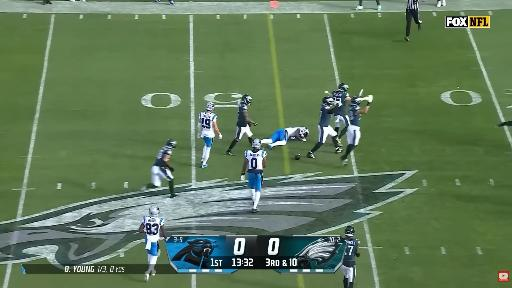Helmet: (241, 95, 252, 105), (345, 226, 355, 236), (149, 206, 159, 216), (323, 96, 334, 105), (166, 139, 176, 148), (252, 139, 261, 148), (352, 97, 361, 106), (338, 83, 348, 91), (302, 127, 308, 138), (206, 103, 214, 111)
Jersey: (143, 216, 164, 242), (245, 150, 266, 173), (343, 238, 359, 267), (199, 112, 217, 137), (332, 91, 348, 115), (154, 147, 171, 167), (349, 102, 361, 126), (319, 104, 332, 126), (237, 103, 247, 127), (285, 127, 301, 137)
Player: (341, 95, 373, 165), (139, 206, 167, 281), (143, 139, 178, 197), (307, 96, 339, 158), (226, 95, 257, 155), (241, 139, 266, 212), (198, 103, 221, 168), (330, 83, 350, 152), (342, 226, 359, 287), (262, 127, 308, 149)
